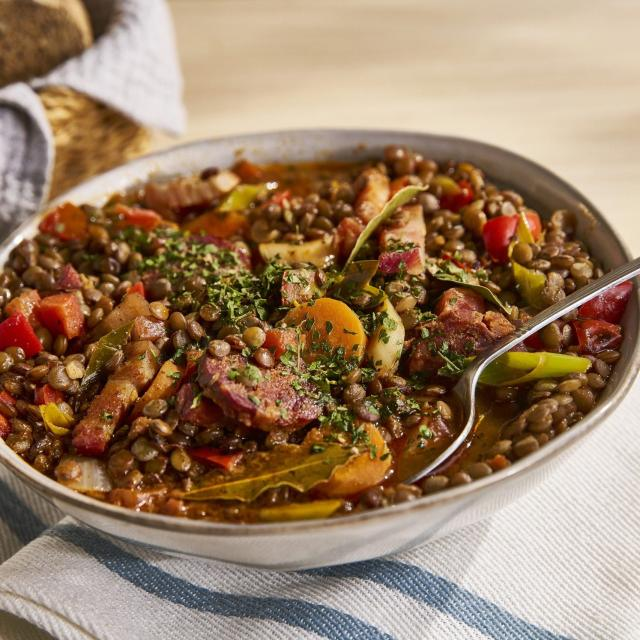lentejas: (13, 138, 634, 552)
